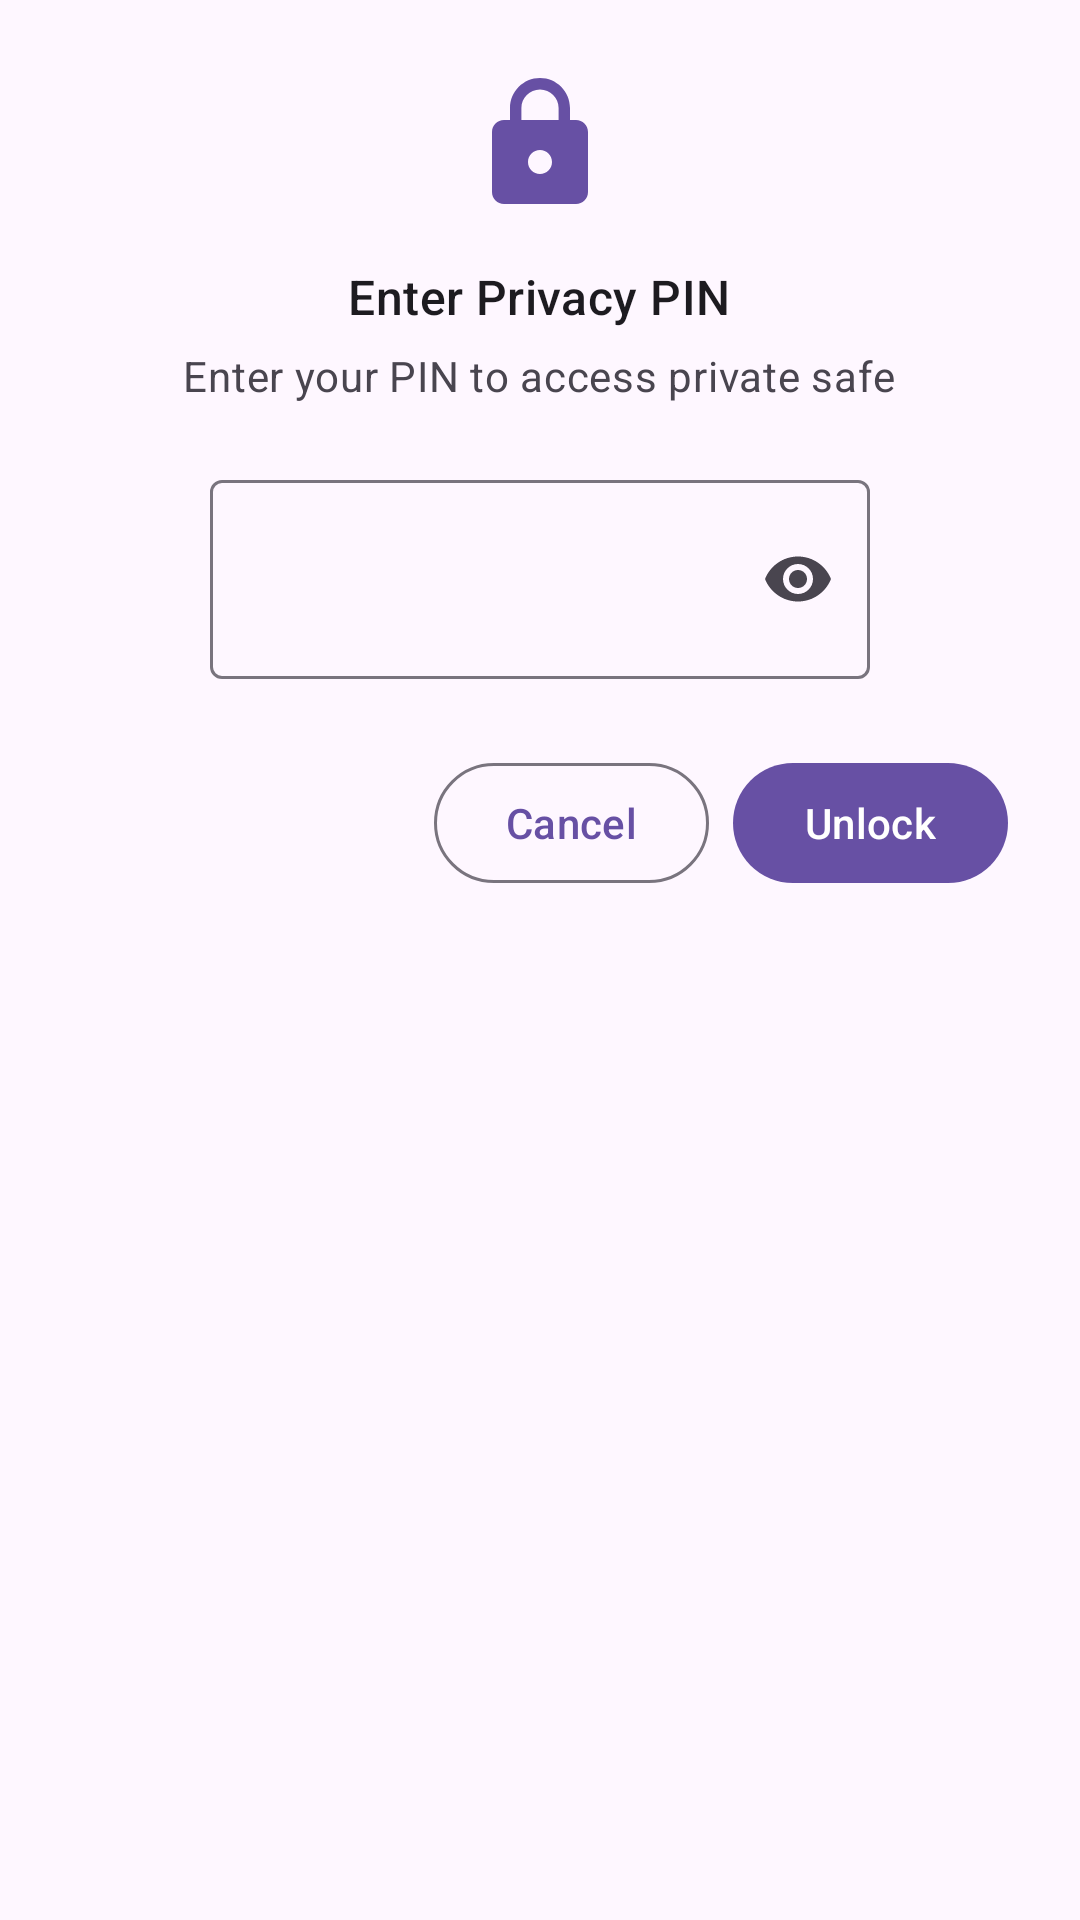

Icon bounding boxes for this 1080*1920 phone screenshot, format (x1, y1, x2, y2):
Locked album: (492, 78, 588, 204)
